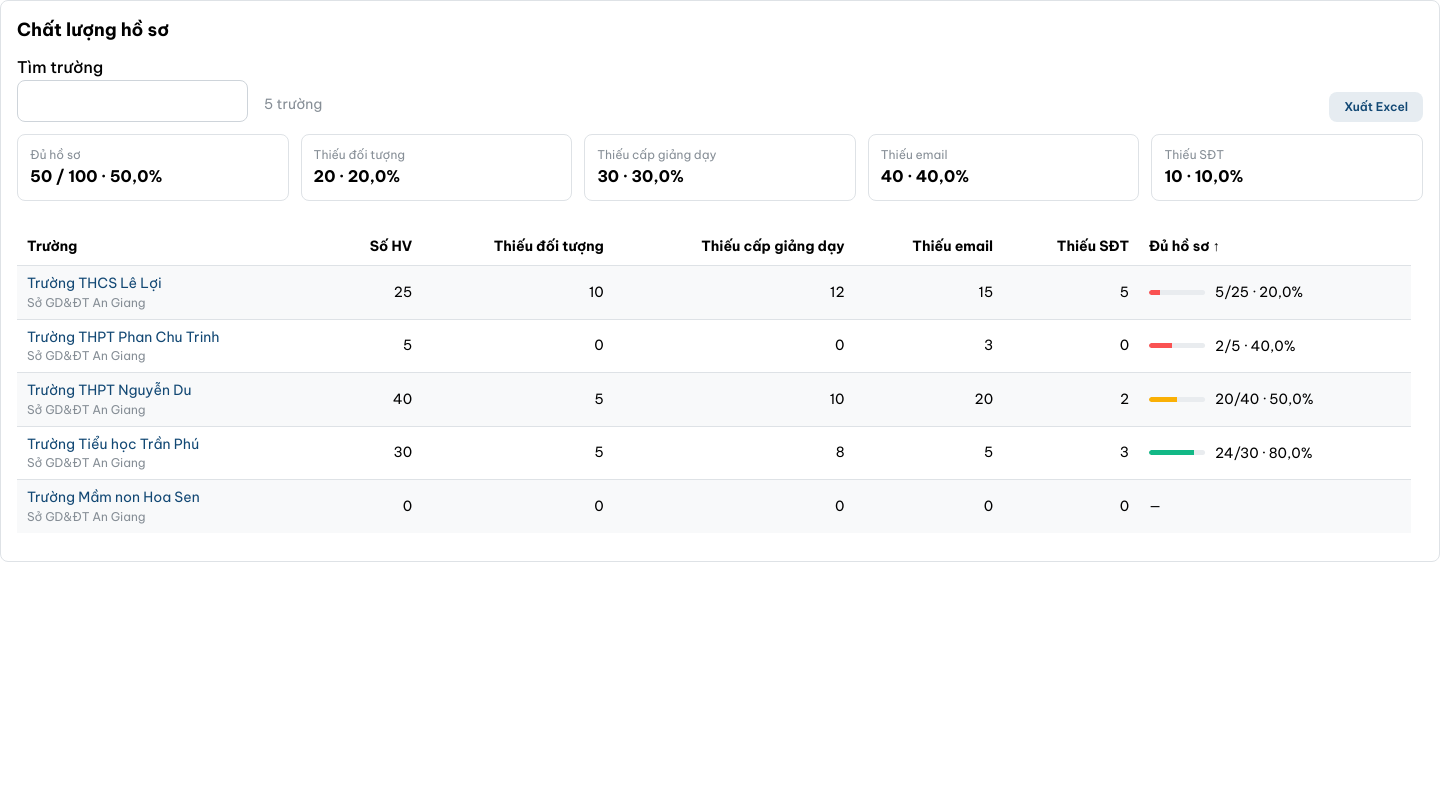
Test case: KhoiChatLuongHoSo › gõ "nguyen" khớp "Nguyễn Du" (bỏ dấu)
Check: the button "Trường THPT Nguyễn Du" is shown, box [27,380,191,400]
Step 1. Type "nguyen" into the field labelled "Tìm trường" → (132, 101), box [17,80,248,122]
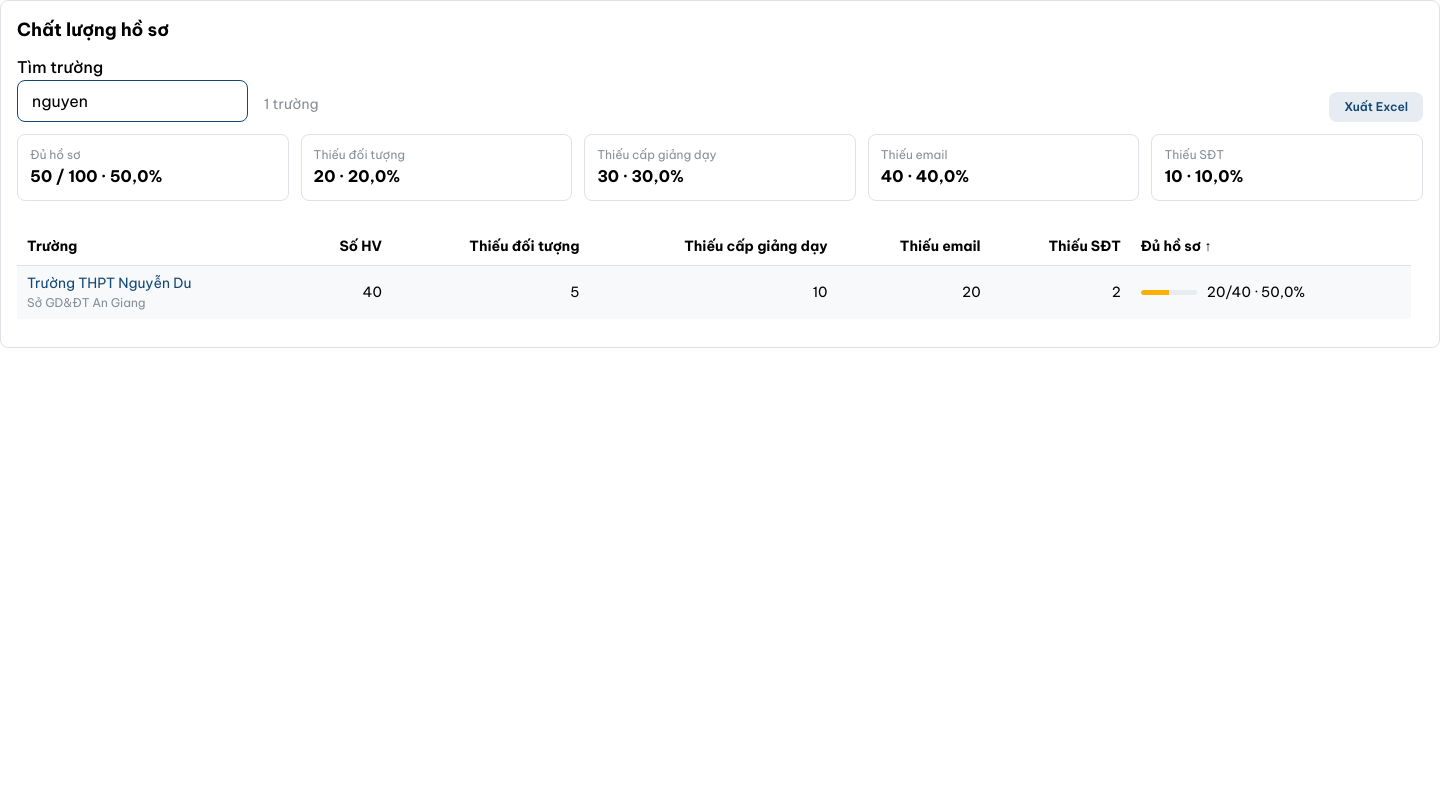
Check: the text "1 trường" is shown, box [264,94,318,122]
Check: the button "Trường THCS Lê Lợi" is gone
